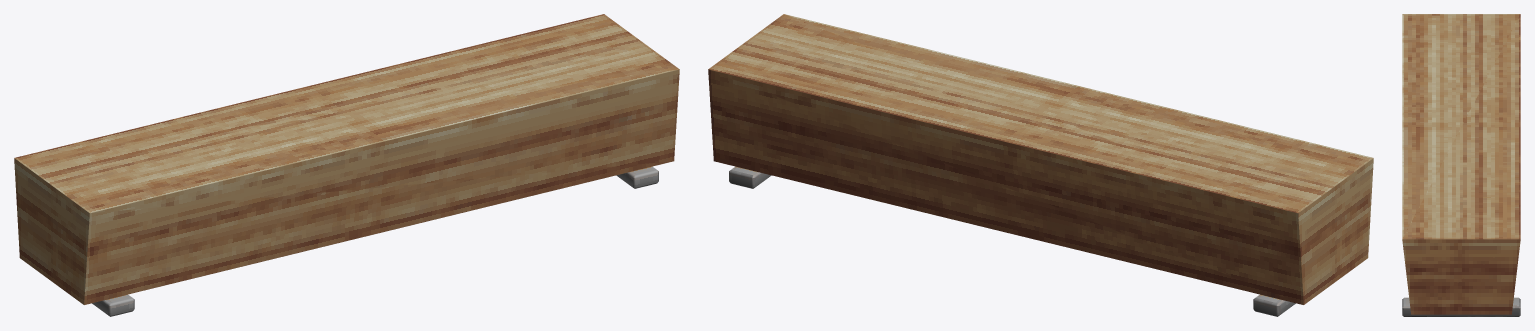
The model's file is window_box.glb.
The picture shows the model from 3 angles, left to right: view 1: azimuth 30°, elevation 25°; view 2: azimuth 150°, elevation 25°; view 3: azimuth 270°, elevation 25°; orthographic projection. The views are drawn at different scales.
Parts seen in each view (by area): view 1: mesh; view 2: mesh; view 3: mesh.
Part boxes in pixels (x1,y1,x2,y2): mesh: (14, 14, 679, 316); mesh: (708, 14, 1373, 316); mesh: (1402, 14, 1520, 316).
Bounding box in the file's own units: 0.9 × 0.16 × 0.2.
Materials: 1 (1 with a texture image).
